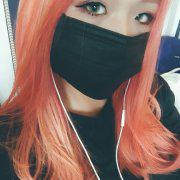OK: (54, 1, 159, 100)
